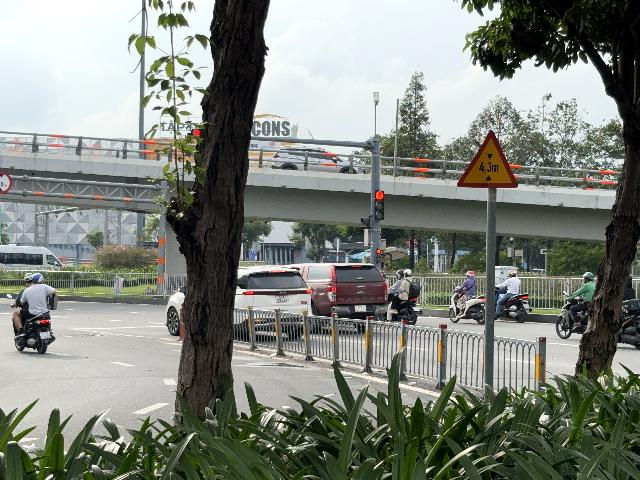chieu-cao-tinh-khong-thuc-te: (457, 130, 518, 189)
